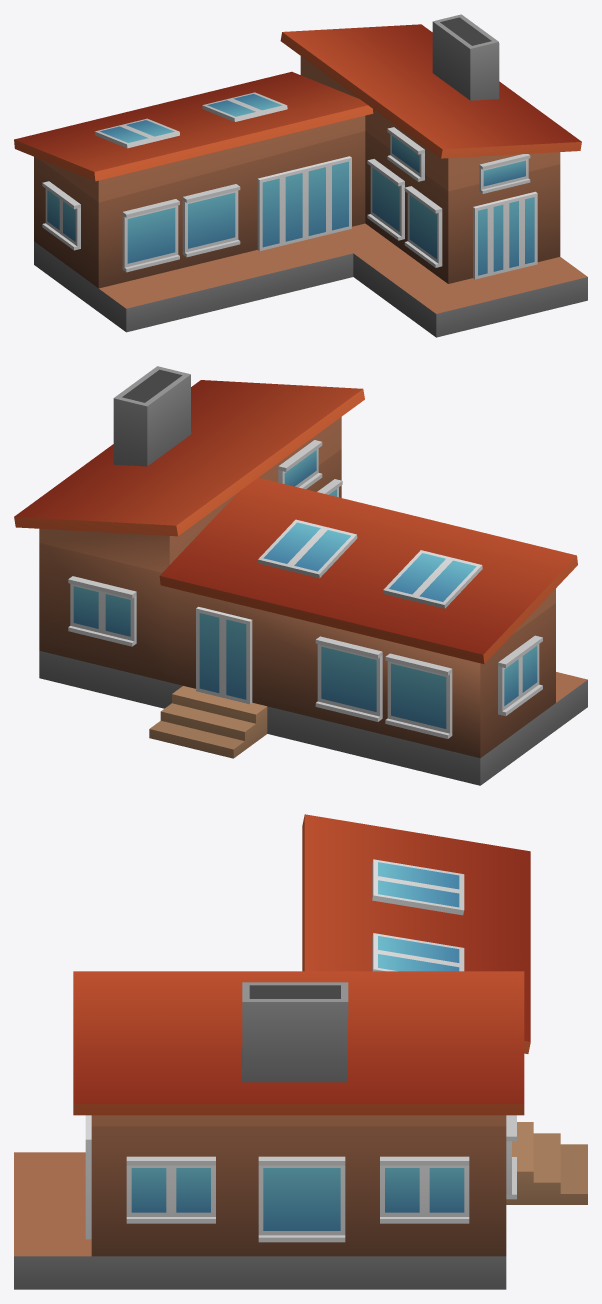
The model's file is modern house.fbx.
3 renders of one model, top to bottom at view 1: azimuth 30°, elevation 25°; view 2: azimuth 150°, elevation 25°; view 3: azimuth 270°, elevation 25°, orthographic. The views are drawn at different scales.
Parts seen in each view (by area): view 1: modern_house; view 2: modern_house; view 3: modern_house.
Boxes of the visible parts, x1,y1,x2,y2 form: modern_house: [14, 14, 587, 337]; modern_house: [14, 366, 587, 785]; modern_house: [14, 814, 587, 1289].
Size of the model in its own units: 1242 by 589 by 1085.
1 material, 1 textured.
